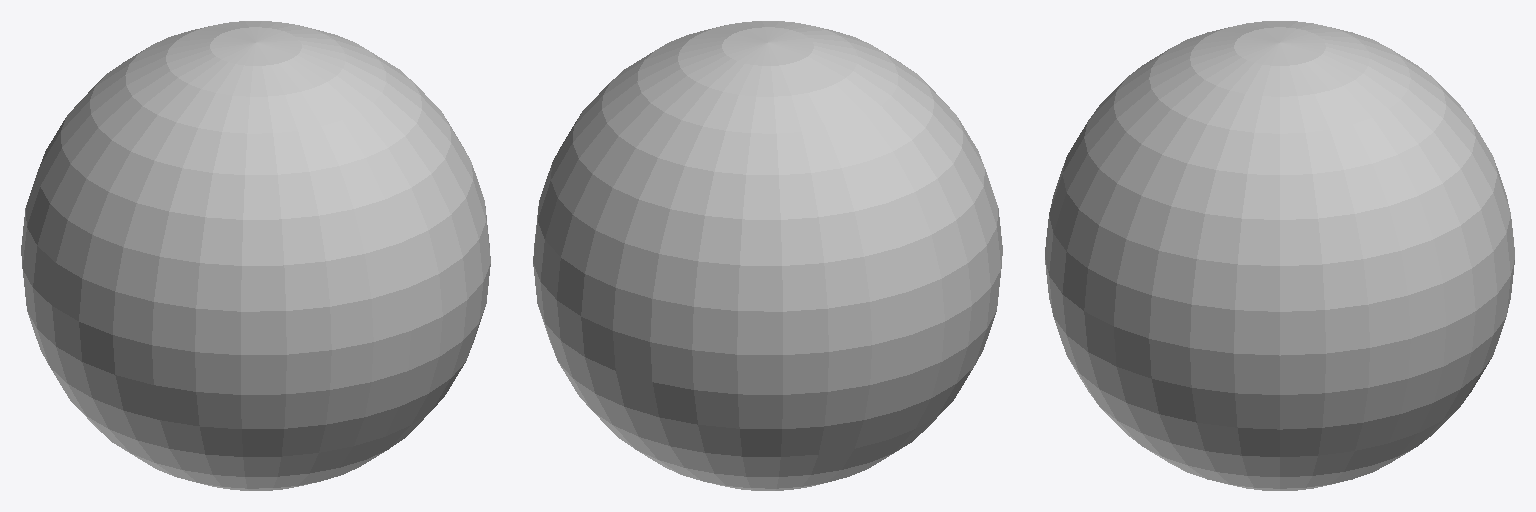
The model's file is low_poly_bball.obj.
3 renders of one model, left to right at view 1: azimuth 30°, elevation 25°; view 2: azimuth 150°, elevation 25°; view 3: azimuth 270°, elevation 25°, orthographic.
Parts seen in each view (by area): view 1: Basketball; view 2: Basketball; view 3: Basketball.
Boxes of the visible parts, <box> form: Basketball: <box>21,21,490,490</box>; Basketball: <box>533,21,1002,490</box>; Basketball: <box>1045,21,1514,490</box>.
Bounding box in the file's own units: 39.37 × 39.37 × 39.37.